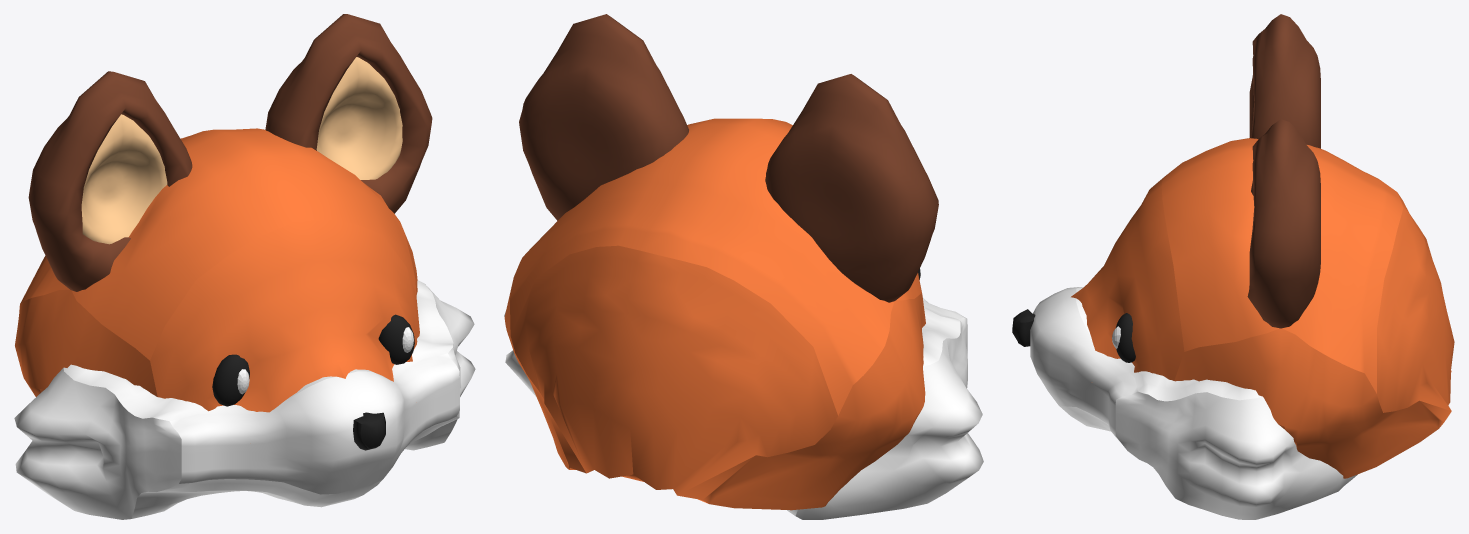
The model's file is cha_fox_head.obj.
3 renders of one model, left to right at view 1: azimuth 30°, elevation 25°; view 2: azimuth 150°, elevation 25°; view 3: azimuth 270°, elevation 25°, orthographic. The views are drawn at different scales.
Visible parts, largest first — view 1: head pCube1, head pCube2, head pSphere2, pSphere3 head, head pSphere1, head pCube3; view 2: head pCube1, head pSphere2, head pCube2; view 3: head pCube1, head pCube2, head pSphere2, head pSphere1, head pCube3.
Part boxes in pixels (x1,y1,x2,y2): head pCube1: (15, 128, 419, 412); head pCube2: (14, 280, 475, 519); head pSphere2: (28, 14, 432, 291); pSphere3 head: (81, 57, 402, 244); head pSphere1: (212, 314, 414, 406); head pCube3: (353, 412, 385, 450); head pCube1: (504, 118, 925, 510); head pSphere2: (519, 14, 938, 302); head pCube2: (504, 297, 983, 519); head pCube1: (1071, 138, 1454, 478); head pCube2: (1030, 287, 1357, 519); head pSphere2: (1247, 14, 1320, 328); head pSphere1: (1116, 313, 1135, 362); head pCube3: (1012, 309, 1035, 346).
Size of the model in its own units: 1.39 by 1.2 by 1.28.
